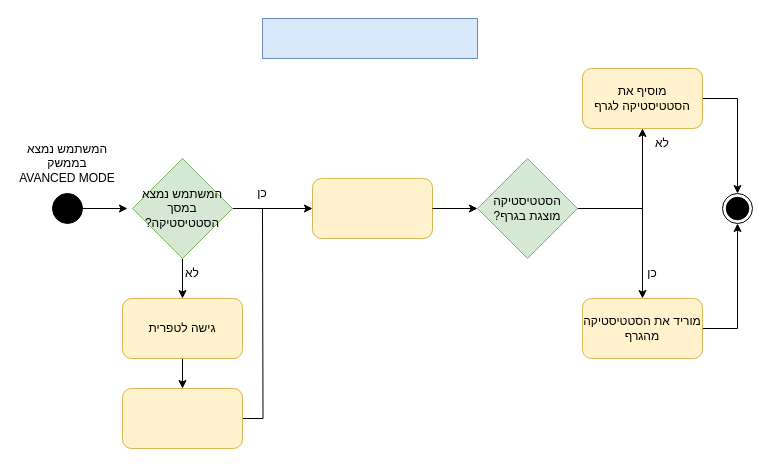
Image size: 770x466. Some labels were removed from this diagram. The centre of each missing label's shape, as x and y in pixels:
"לחיצה בלשונית הסטטיסטיקה" goes at [182,418].
"לחיצה על תא הוספת סטטיסטיקת האפליקציה הנבחרת לגרף" goes at [372,208].
"צפייה בסטטיסטיקת שימוש באפליקציות" goes at [370,38].
